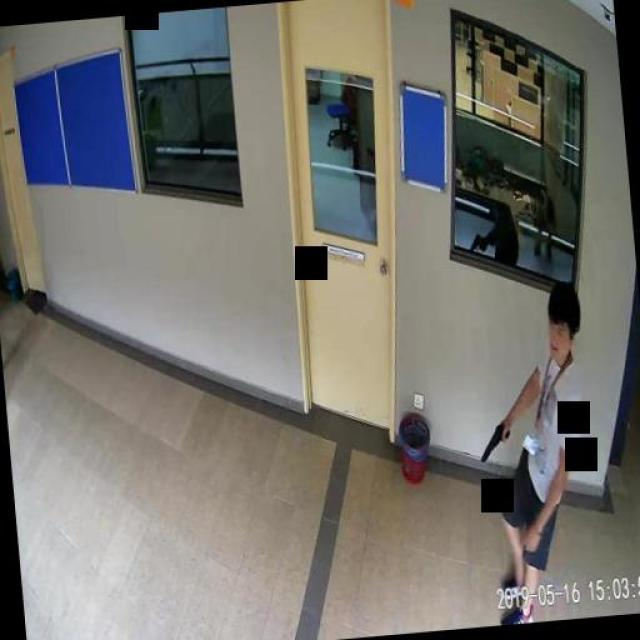gun: (477, 419, 512, 460)
